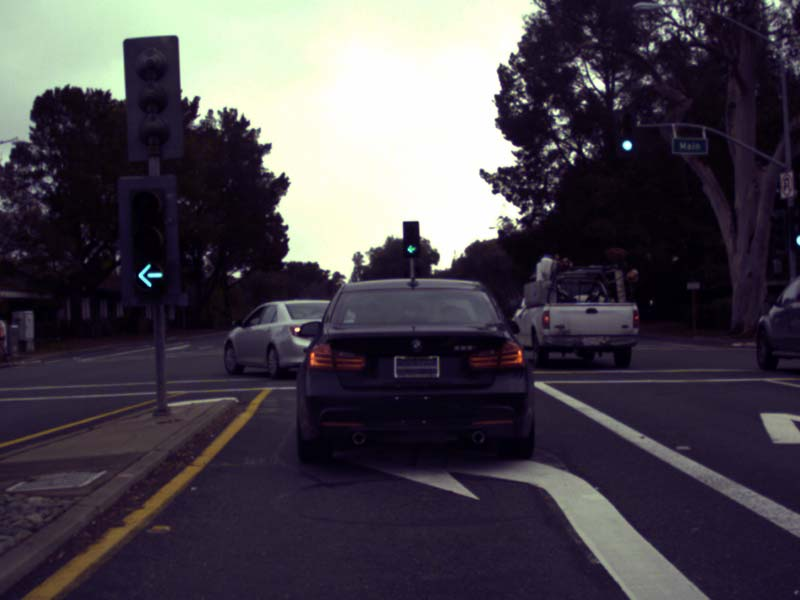Green: (118, 180, 175, 301), (614, 110, 638, 155), (403, 221, 419, 255)
